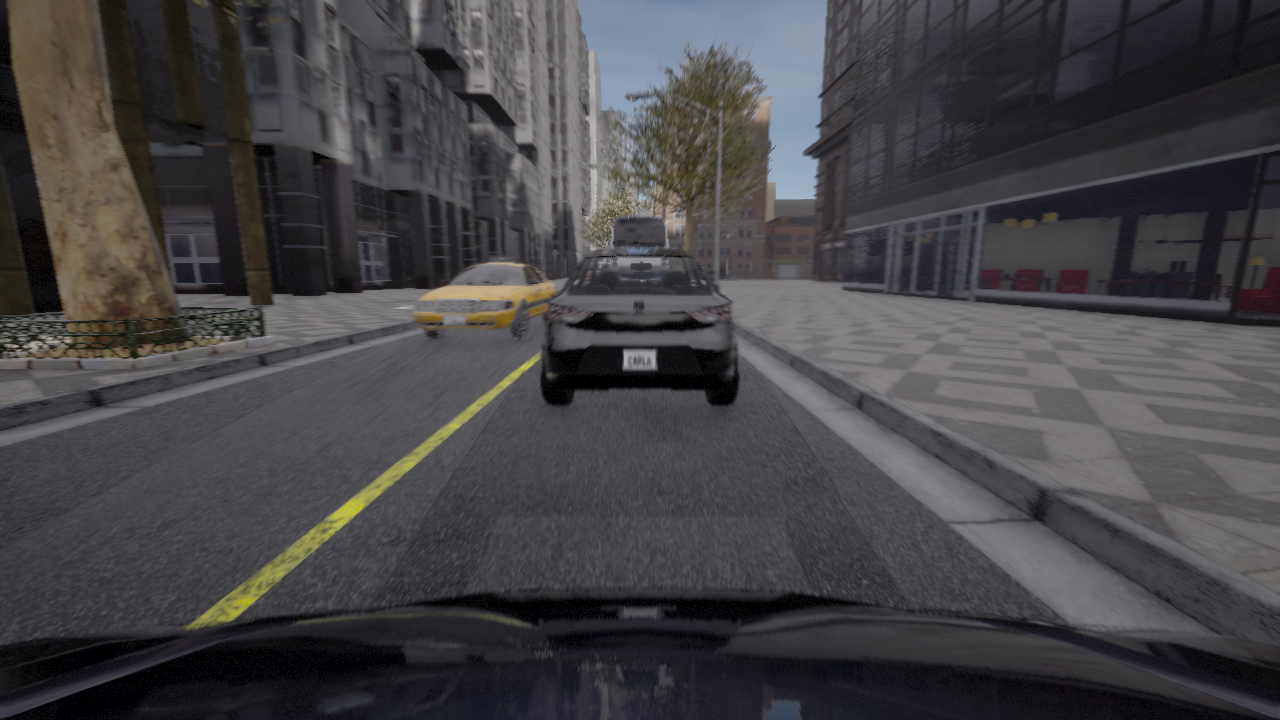cyclist: (0, 588, 1279, 719), (541, 247, 738, 404), (413, 256, 556, 338), (610, 215, 668, 247)
